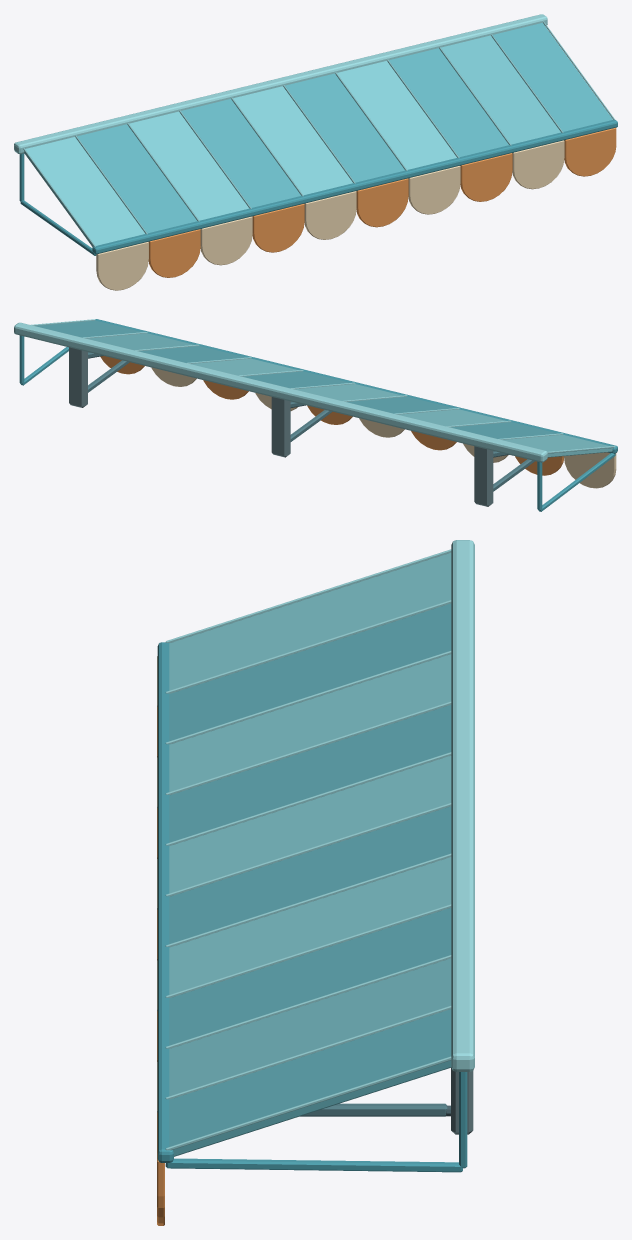
Rendered from wsc-prop-023-shop-doorway-awning.glb.
3 views of the same model, one above another, from view 1: azimuth 30°, elevation 25°; view 2: azimuth 150°, elevation 25°; view 3: azimuth 270°, elevation 25° (orthographic). The views are drawn at different scales.
Parts seen in each view (by area): view 1: WSC-PROP-023 / Dyed canvas cyan 1, WSC-PROP-023 / Dyed canvas cyan 0, WSC-PROP-023 / Flax cream valance, WSC-PROP-023 / Tangerine cloth valance, WSC-PROP-023 / Pale cyan ridge binding, WSC-PROP-023 / Dyed canvas cyan 2, WSC-PROP-023 / Cyan roll binding; view 2: WSC-PROP-023 / Pale cyan ridge binding, WSC-PROP-023 / Dyed canvas cyan 1, WSC-PROP-023 / Dyed canvas cyan 0, WSC-PROP-023 / Blue grey wall plates, WSC-PROP-023 / Cyan roll binding, WSC-PROP-023 / Flax cream valance, WSC-PROP-023 / Tangerine cloth valance, WSC-PROP-023 / Blue steel brackets, WSC-PROP-023 / Dyed canvas cyan 2; view 3: WSC-PROP-023 / Dyed canvas cyan 1, WSC-PROP-023 / Dyed canvas cyan 0, WSC-PROP-023 / Pale cyan ridge binding, WSC-PROP-023 / Dyed canvas cyan 2, WSC-PROP-023 / Cyan roll binding, WSC-PROP-023 / Blue steel brackets, WSC-PROP-023 / Blue grey wall plates.
Part boxes in pixels (left/top/right/bottom): WSC-PROP-023 / Dyed canvas cyan 1: left=77, top=23, right=612, bottom=233; WSC-PROP-023 / Dyed canvas cyan 0: left=24, top=61, right=456, bottom=246; WSC-PROP-023 / Flax cream valance: left=96, top=140, right=564, bottom=290; WSC-PROP-023 / Tangerine cloth valance: left=148, top=127, right=616, bottom=277; WSC-PROP-023 / Pale cyan ridge binding: left=14, top=14, right=615, bottom=246; WSC-PROP-023 / Dyed canvas cyan 2: left=440, top=35, right=560, bottom=144; WSC-PROP-023 / Cyan roll binding: left=19, top=119, right=617, bottom=255; WSC-PROP-023 / Pale cyan ridge binding: left=14, top=319, right=615, bottom=462; WSC-PROP-023 / Dyed canvas cyan 1: left=35, top=320, right=557, bottom=438; WSC-PROP-023 / Dyed canvas cyan 0: left=191, top=358, right=612, bottom=457; WSC-PROP-023 / Blue grey wall plates: left=69, top=347, right=493, bottom=506; WSC-PROP-023 / Cyan roll binding: left=19, top=319, right=617, bottom=511; WSC-PROP-023 / Flax cream valance: left=151, top=367, right=616, bottom=488; WSC-PROP-023 / Tangerine cloth valance: left=100, top=356, right=563, bottom=475; WSC-PROP-023 / Blue steel brackets: left=88, top=352, right=534, bottom=491; WSC-PROP-023 / Dyed canvas cyan 2: left=87, top=333, right=194, bottom=350; WSC-PROP-023 / Dyed canvas cyan 1: left=169, top=603, right=451, bottom=1156; WSC-PROP-023 / Dyed canvas cyan 0: left=169, top=553, right=451, bottom=994; WSC-PROP-023 / Pale cyan ridge binding: left=165, top=540, right=474, bottom=1150; WSC-PROP-023 / Dyed canvas cyan 2: left=169, top=958, right=451, bottom=1096; WSC-PROP-023 / Cyan roll binding: left=157, top=642, right=467, bottom=1172; WSC-PROP-023 / Blue steel brackets: left=300, top=1103, right=447, bottom=1116; WSC-PROP-023 / Blue grey wall plates: left=451, top=1067, right=473, bottom=1134.
Bounding box in the file's own units: 3.87 × 0.6805 × 1.
